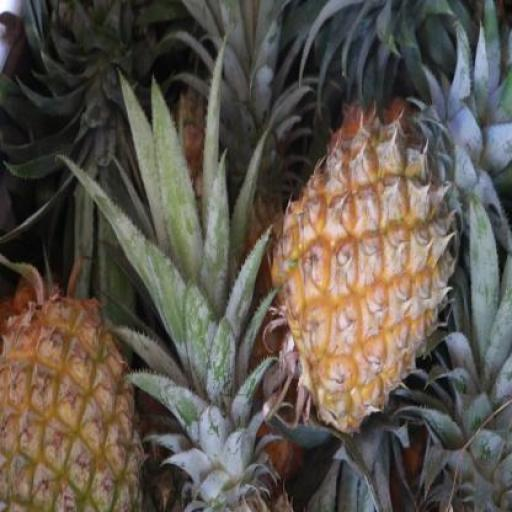------------------------------: (0, 298, 150, 511)
Pineapple - v8 v1: (270, 107, 472, 427)
